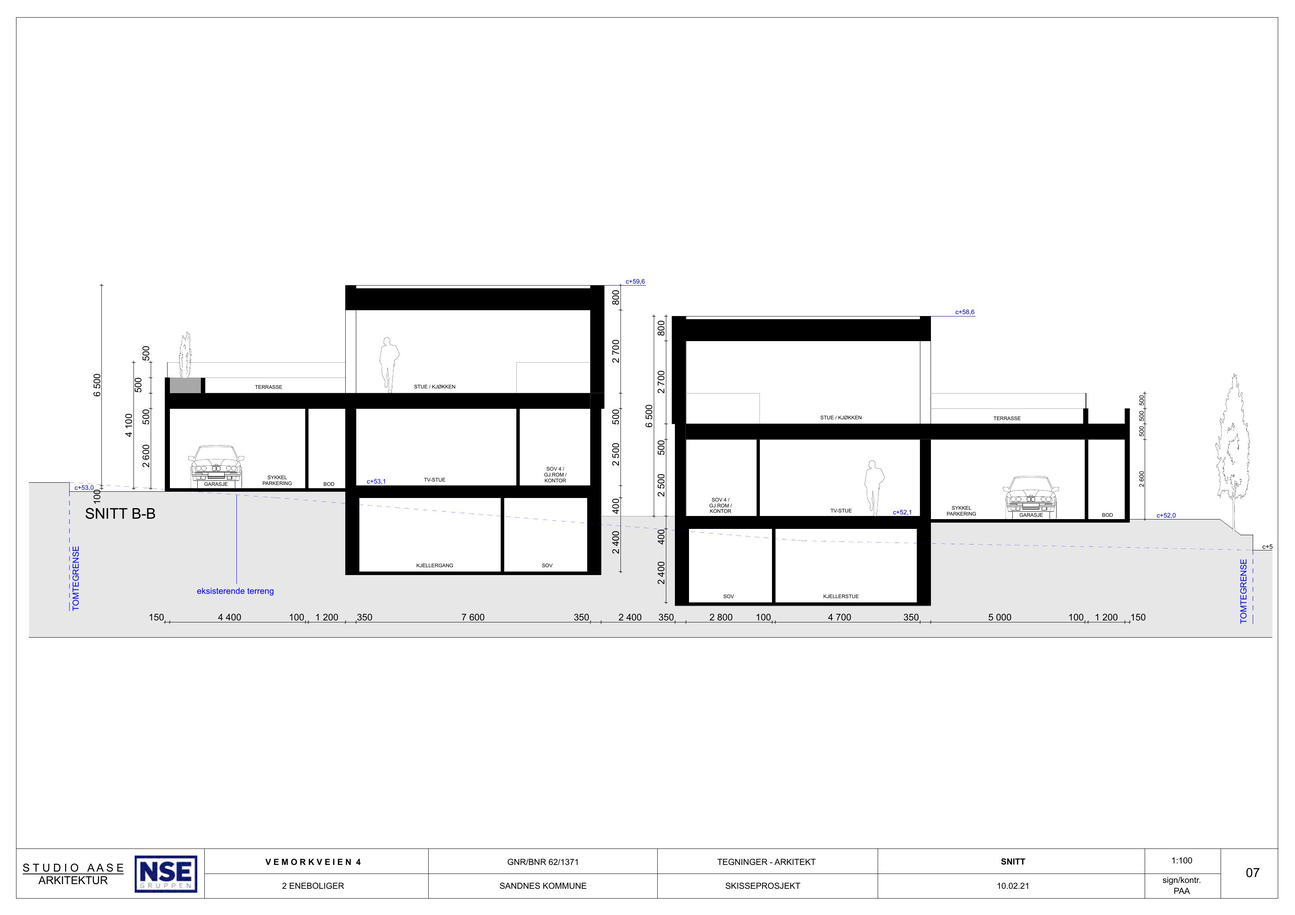snitt: (668, 314, 1134, 610), (162, 280, 608, 582)
